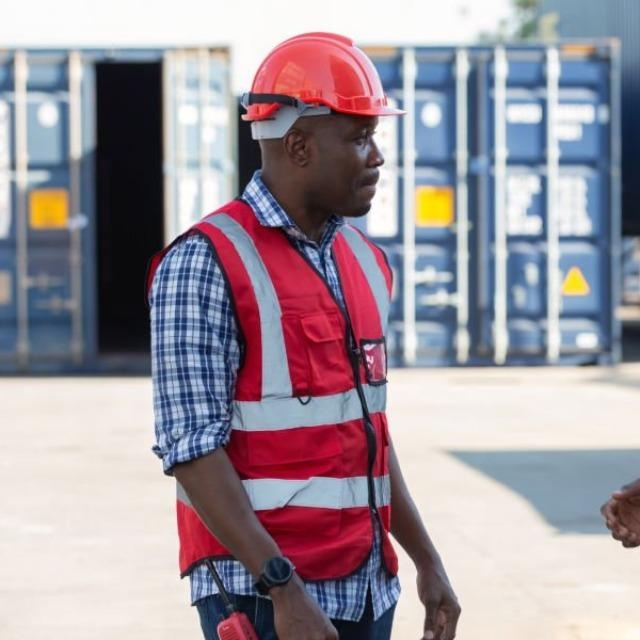Con_Casco: (242, 30, 404, 212)
Con_Chaleco: (155, 208, 408, 580)
